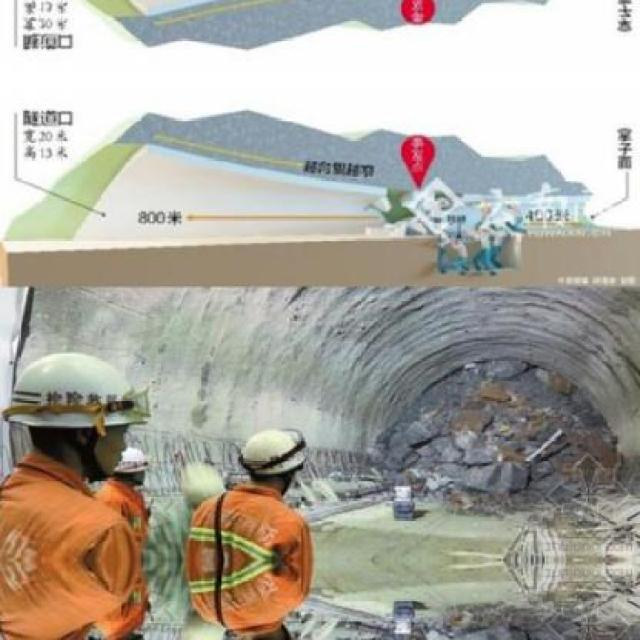helmet: (18, 340, 154, 472), (238, 427, 313, 487), (112, 448, 152, 490), (112, 630, 154, 638)
